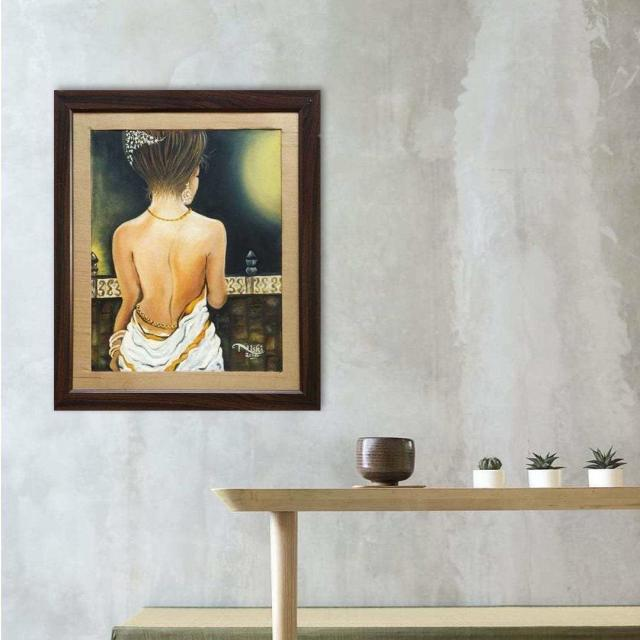painting: (53, 89, 322, 412)
